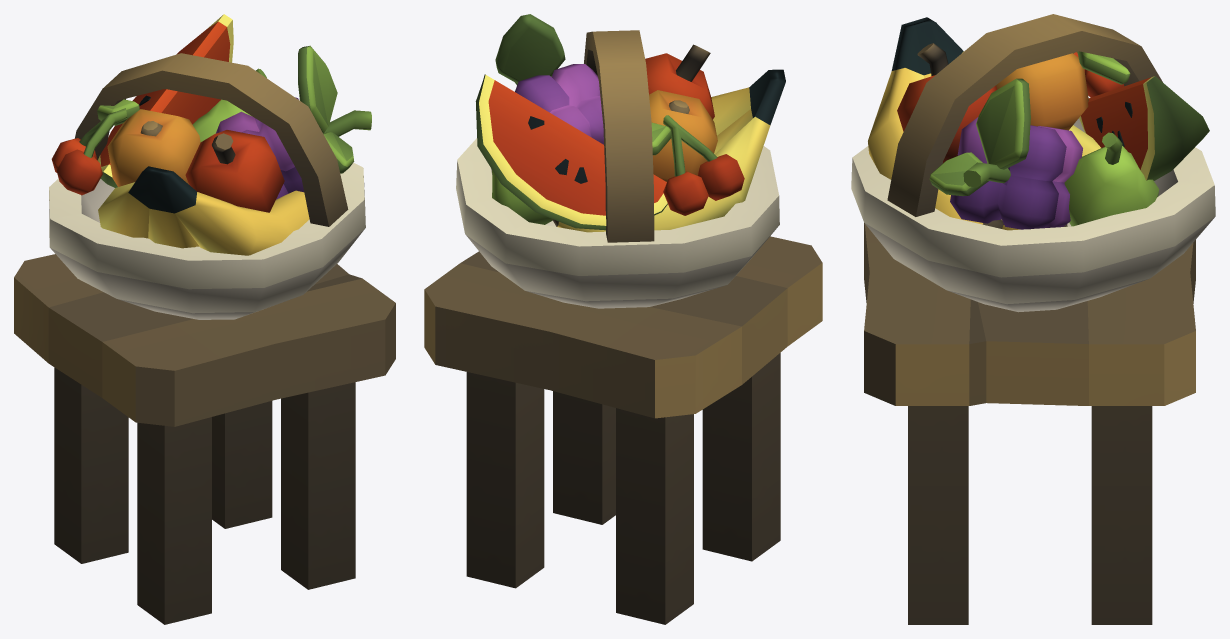
Rendered from table_fruit.fbx.
The picture shows the model from 3 angles, left to right: view 1: azimuth 30°, elevation 25°; view 2: azimuth 150°, elevation 25°; view 3: azimuth 270°, elevation 25°; orthographic projection. The views are drawn at different scales.
Visible parts, largest first — view 1: table_fruit; view 2: table_fruit; view 3: table_fruit.
Part boxes in pixels (<box>): table_fruit: <box>14,14,395,624</box>; table_fruit: <box>424,14,822,624</box>; table_fruit: <box>851,14,1215,624</box>.
Size of the model in its own units: 68.33 by 113 by 68.34.
